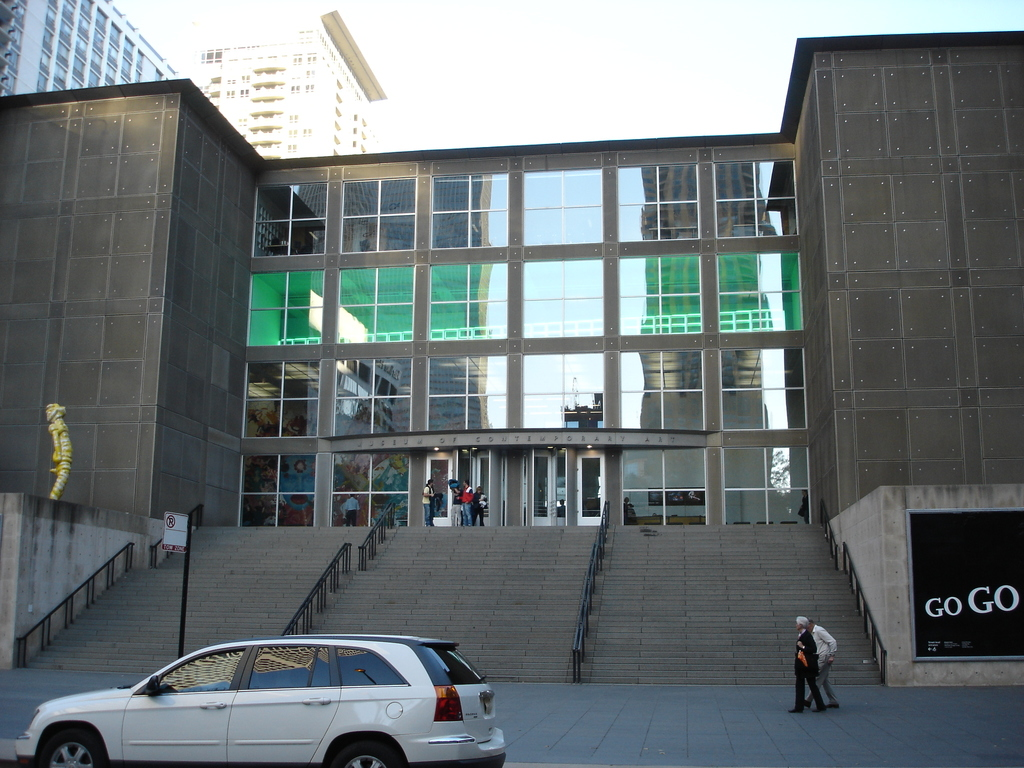Car: (55, 634, 496, 759)
